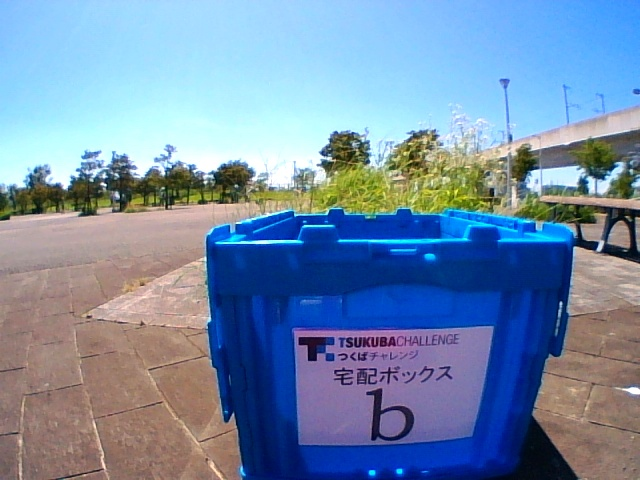blue_box: (246, 220, 518, 475)
tag_b: (305, 339, 450, 442)
